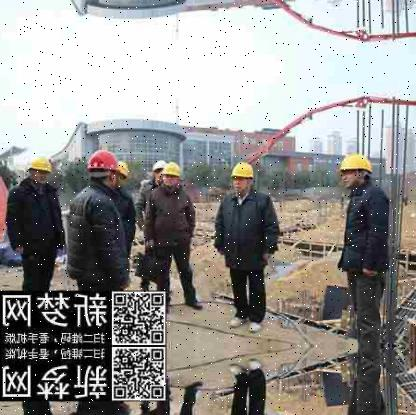helmet: (336, 150, 378, 188), (85, 148, 124, 188), (231, 159, 257, 194), (27, 153, 55, 184), (150, 157, 170, 188), (165, 159, 184, 188)
